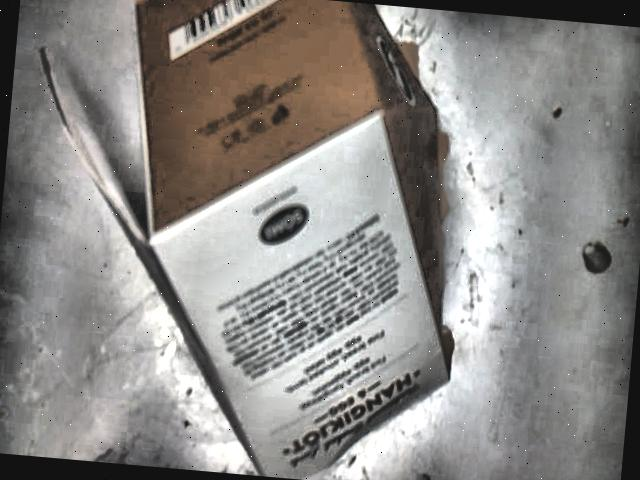Paper: (0, 0, 493, 480)
